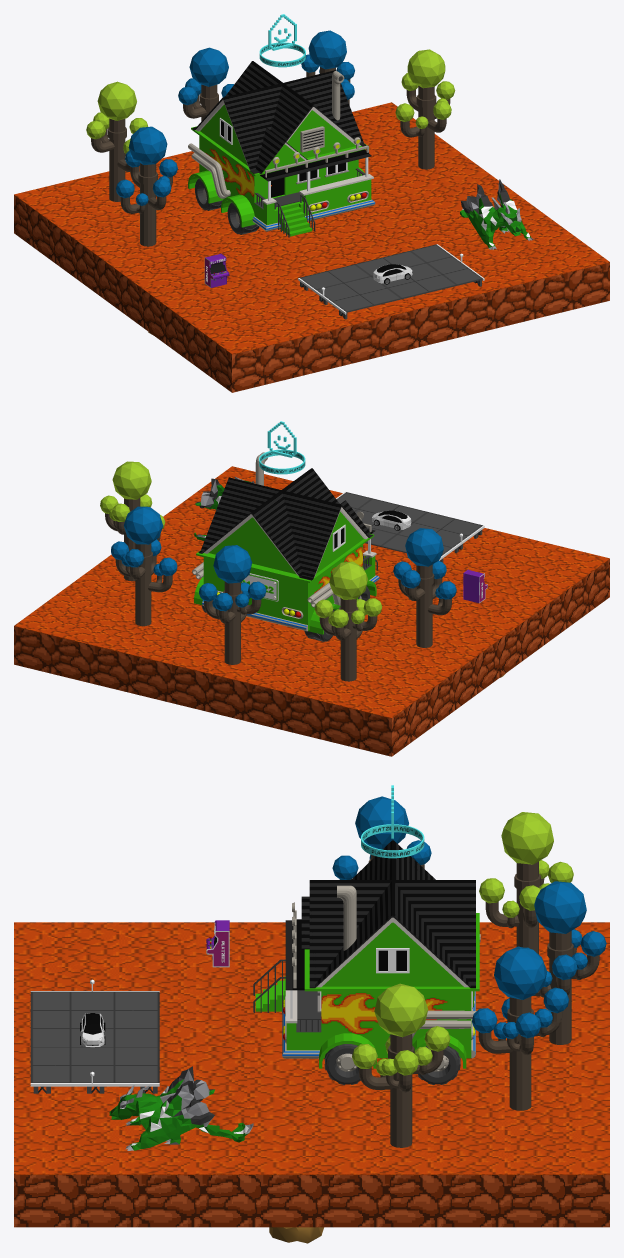
The picture shows the model from 3 angles, top to bottom: view 1: azimuth 30°, elevation 25°; view 2: azimuth 150°, elevation 25°; view 3: azimuth 270°, elevation 25°; orthographic projection. The views are drawn at different scales.
Parts seen in each view (by area): view 1: Cube.001, Cube.1474, ANIMAL_DRAGON, TYPE_PREMIUM, OBJRANDOM_ARCADE, VEHICLES_TESLA; view 2: Cube.001, Cube.1474, TYPE_PREMIUM, OBJRANDOM_ARCADE, ANIMAL_DRAGON, VEHICLES_TESLA; view 3: Cube.001, Cube.1474, ANIMAL_DRAGON, TYPE_PREMIUM, OBJRANDOM_ARCADE, VEHICLES_TESLA, UNDERGROUND_T_REX_BONES.
Part boxes in pixels (x1,y1,x2,y2): Cube.001: (14, 30, 609, 392); Cube.1474: (188, 61, 375, 237); ANIMAL_DRAGON: (460, 179, 533, 249); TYPE_PREMIUM: (259, 14, 305, 67); OBJRANDOM_ARCADE: (204, 253, 229, 287); VEHICLES_TESLA: (373, 264, 412, 284); Cube.001: (14, 461, 609, 756); Cube.1474: (192, 452, 379, 641); TYPE_PREMIUM: (259, 421, 305, 474); OBJRANDOM_ARCADE: (463, 569, 487, 603); ANIMAL_DRAGON: (194, 476, 254, 540); VEHICLES_TESLA: (372, 510, 411, 530); Cube.001: (14, 796, 609, 1227); Cube.1474: (253, 840, 480, 1085); ANIMAL_DRAGON: (109, 1066, 253, 1150); TYPE_PREMIUM: (361, 785, 424, 858); OBJRANDOM_ARCADE: (206, 920, 229, 967); VEHICLES_TESLA: (80, 1013, 105, 1047); UNDERGROUND_T_REX_BONES: (269, 1227, 323, 1243).
Bounding box in the file's own units: 4000 × 2523 × 4000.
Materials: 44 (6 with a texture image).
